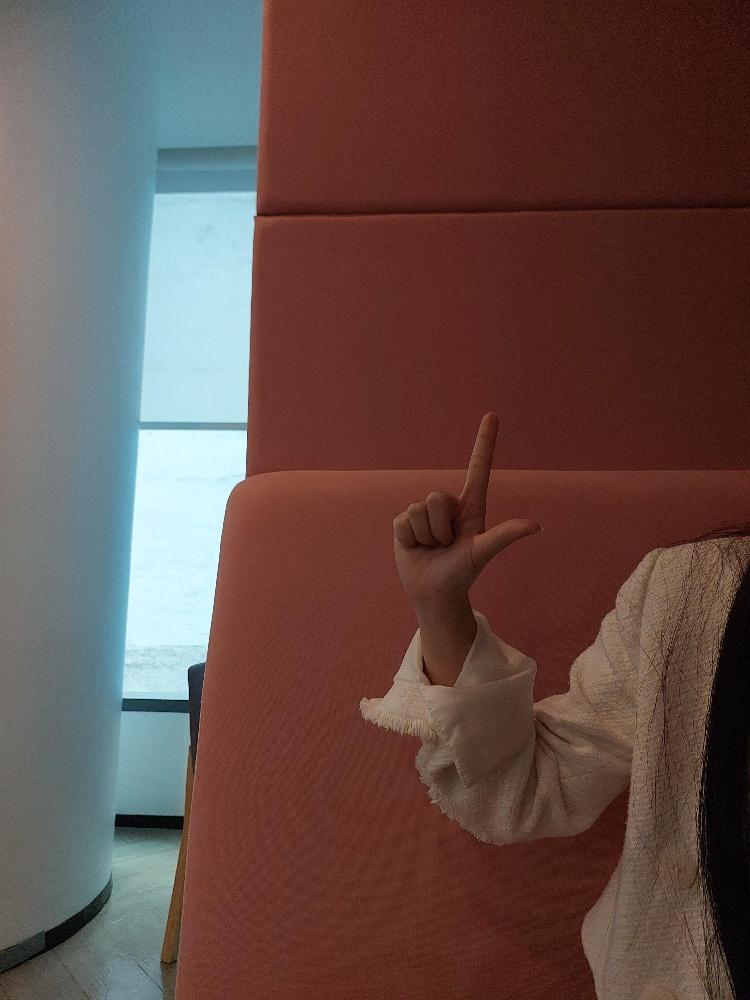l: (391, 410, 539, 586)
